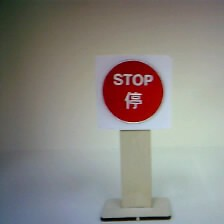stop: (94, 53, 170, 128)
